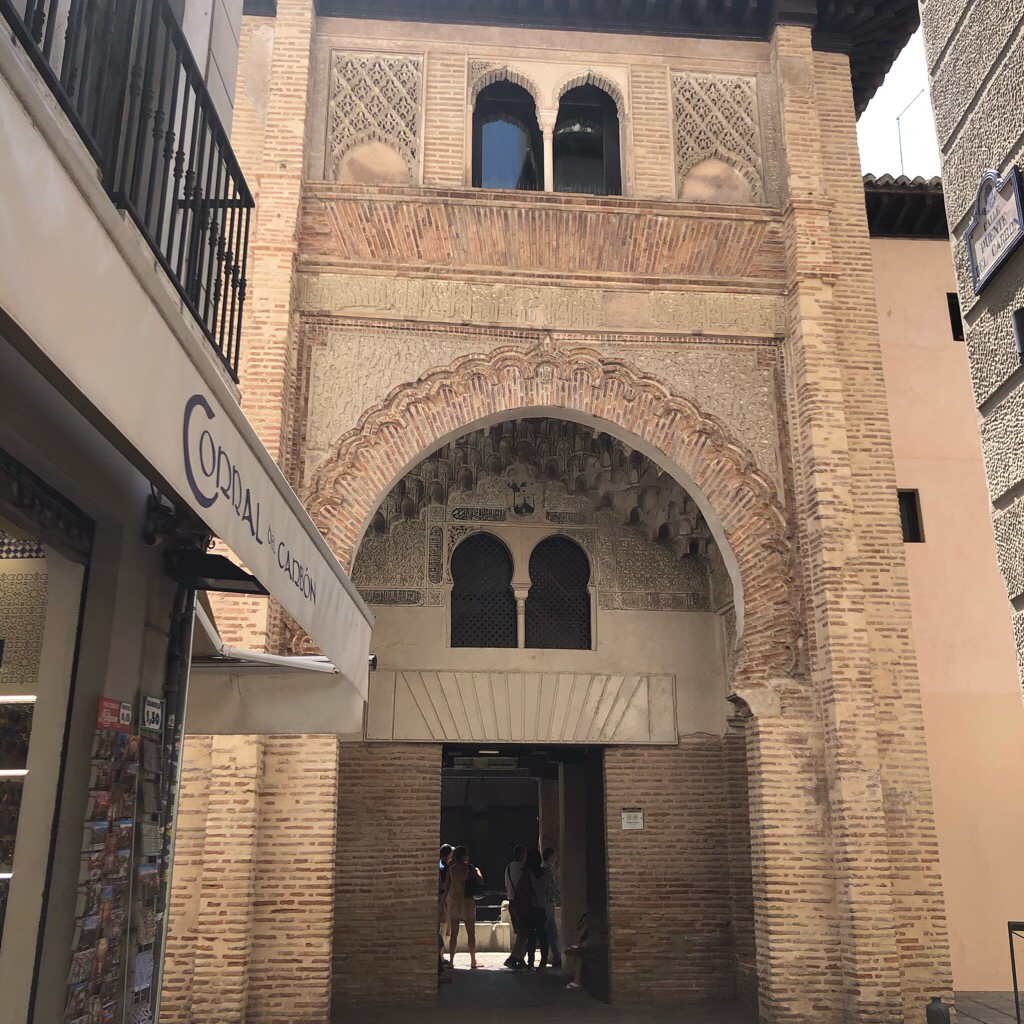arco-herradura: (318, 388, 758, 714), (441, 524, 522, 593), (522, 529, 595, 597)
dintel-adovelado: (320, 189, 768, 286), (406, 659, 672, 746)
